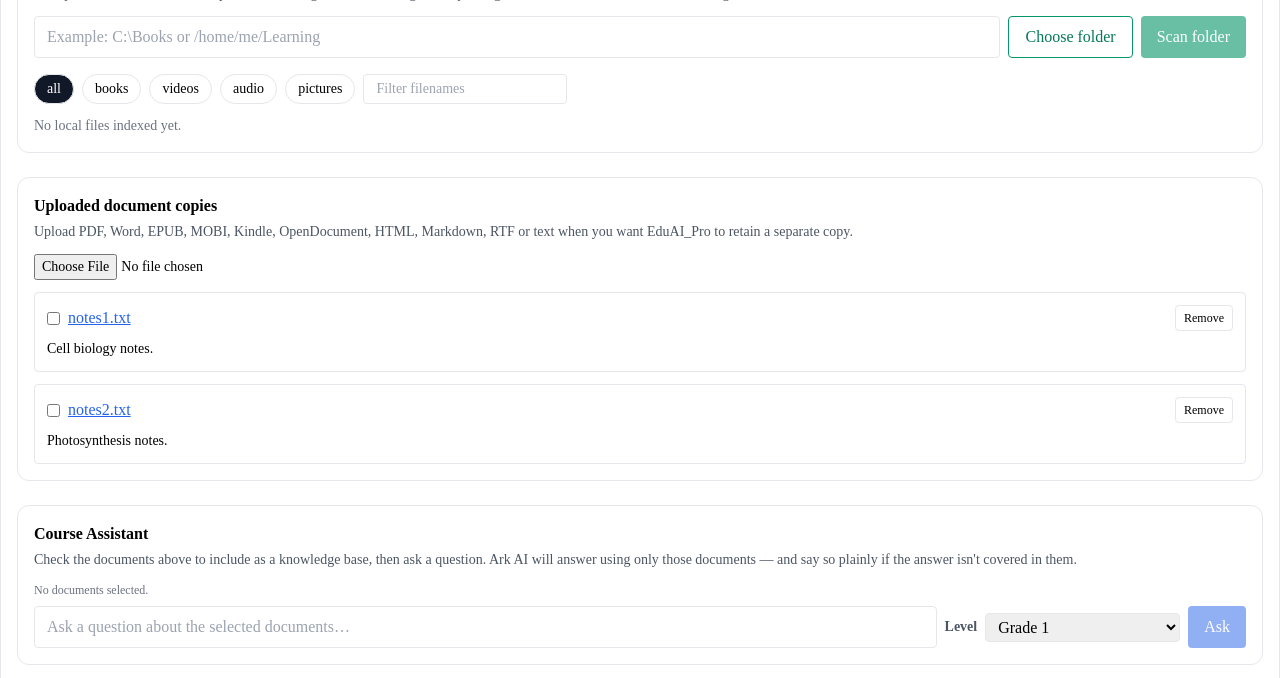
Test: ResourceTab Course Assistant › shows an error message when the course assistant request fails
The image size is (1280, 678).
(page scrolled)
Expected: the link "notes1.txt" is shown, [68,306,131,330]
Click the checkbox named "Include notes1.txt in Course Assistant" at (54,318), box [47,312,60,324]
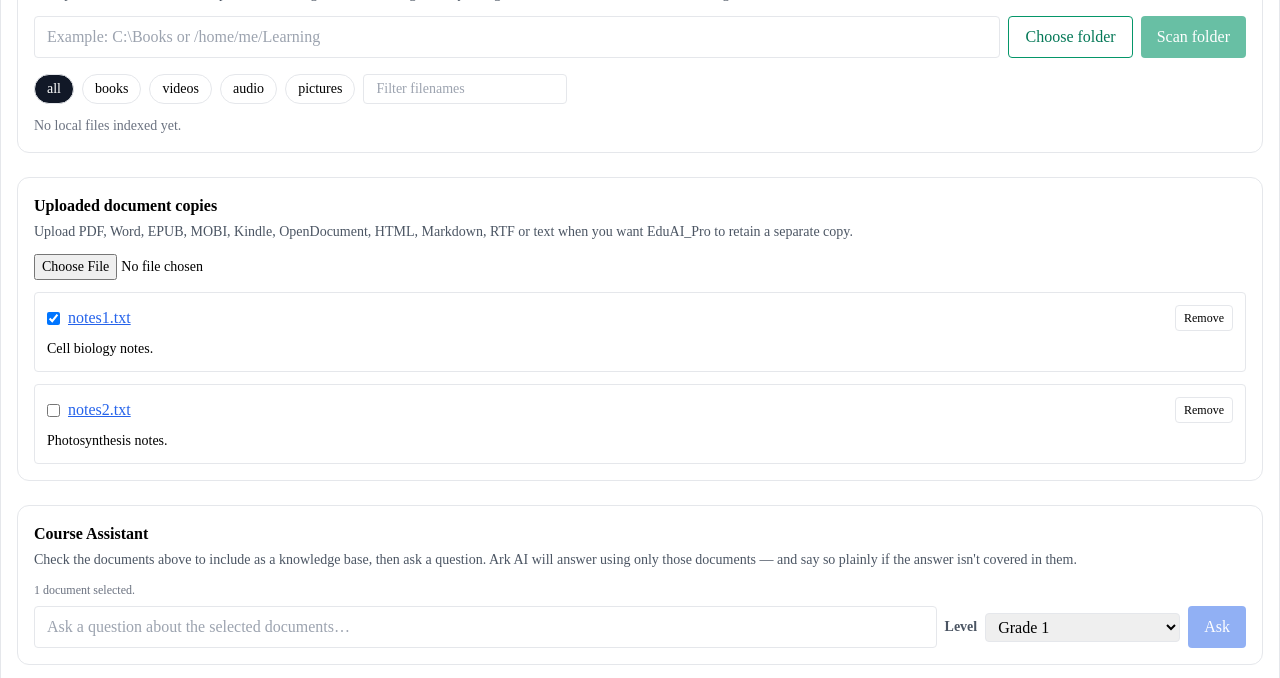
Type "x" into the field with placeholder "Ask a question about the selected documents…" at (485,627), box [34,606,937,648]
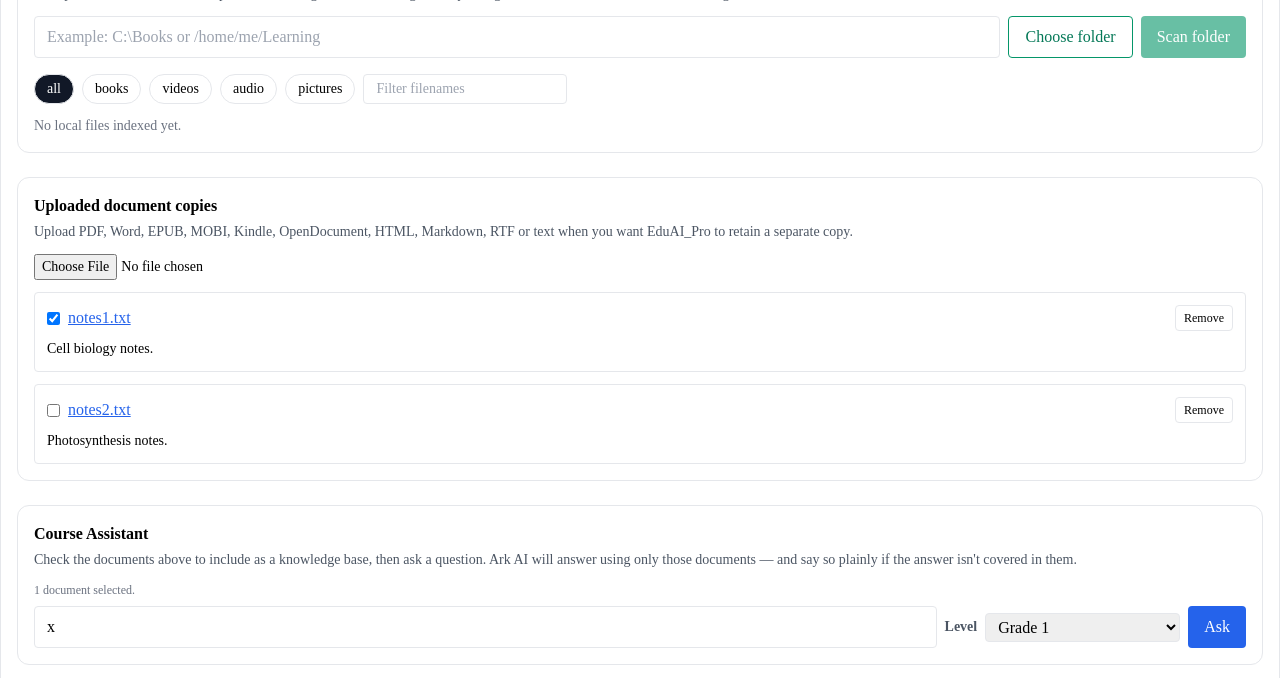
Click the button "Ask" at (1217,627), box [1188,606,1246,648]
(page scrolled)
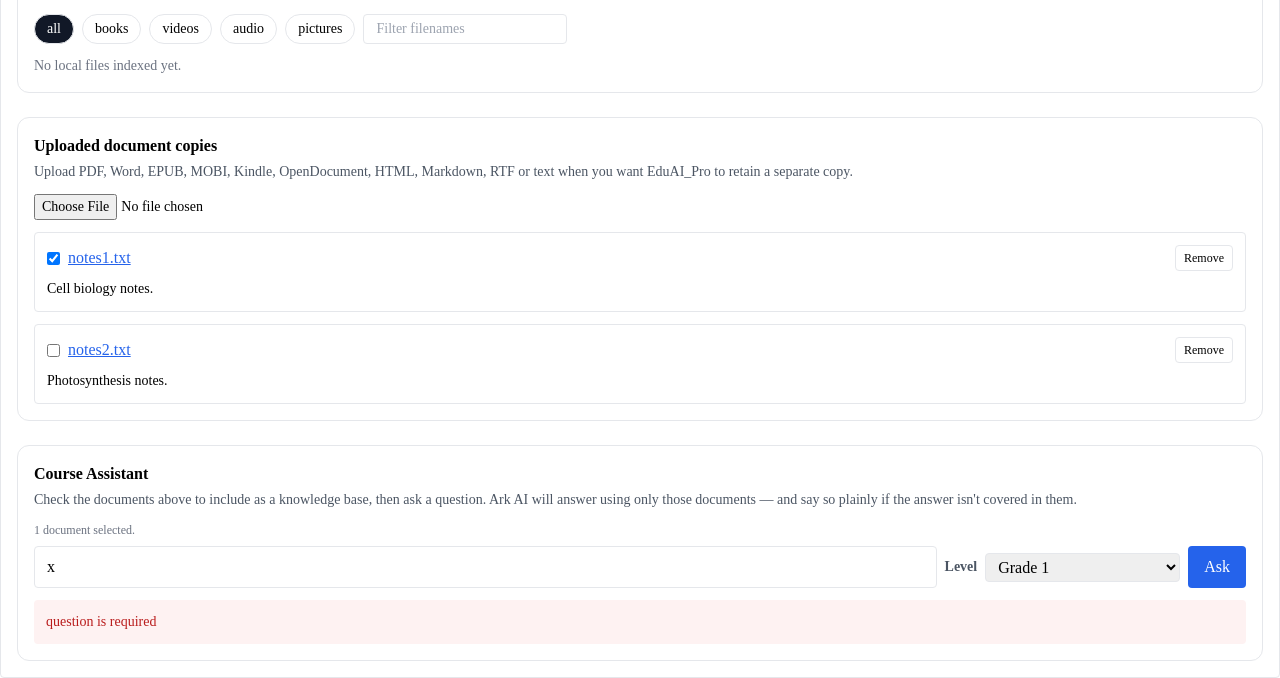
Now the text "question is required" is shown, box [34,600,1246,644]
